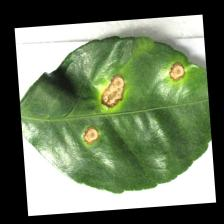canker: (78, 59, 190, 144)
